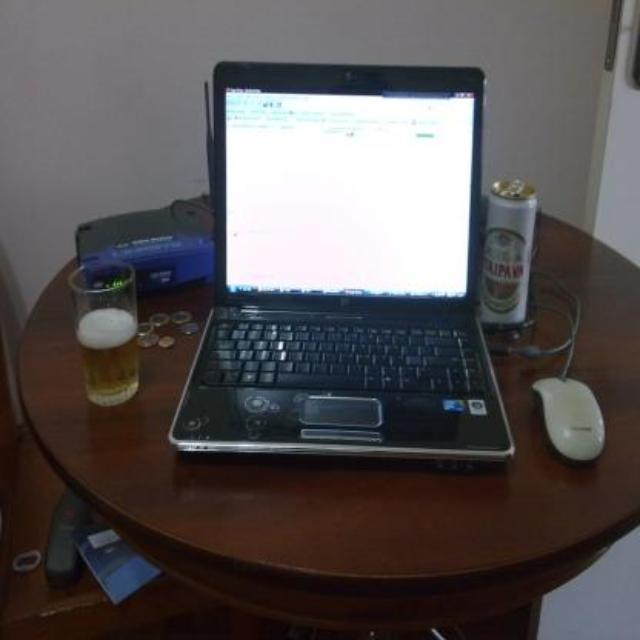Computer-Mouse: (518, 330, 614, 480)
Laptop: (170, 42, 498, 462)
